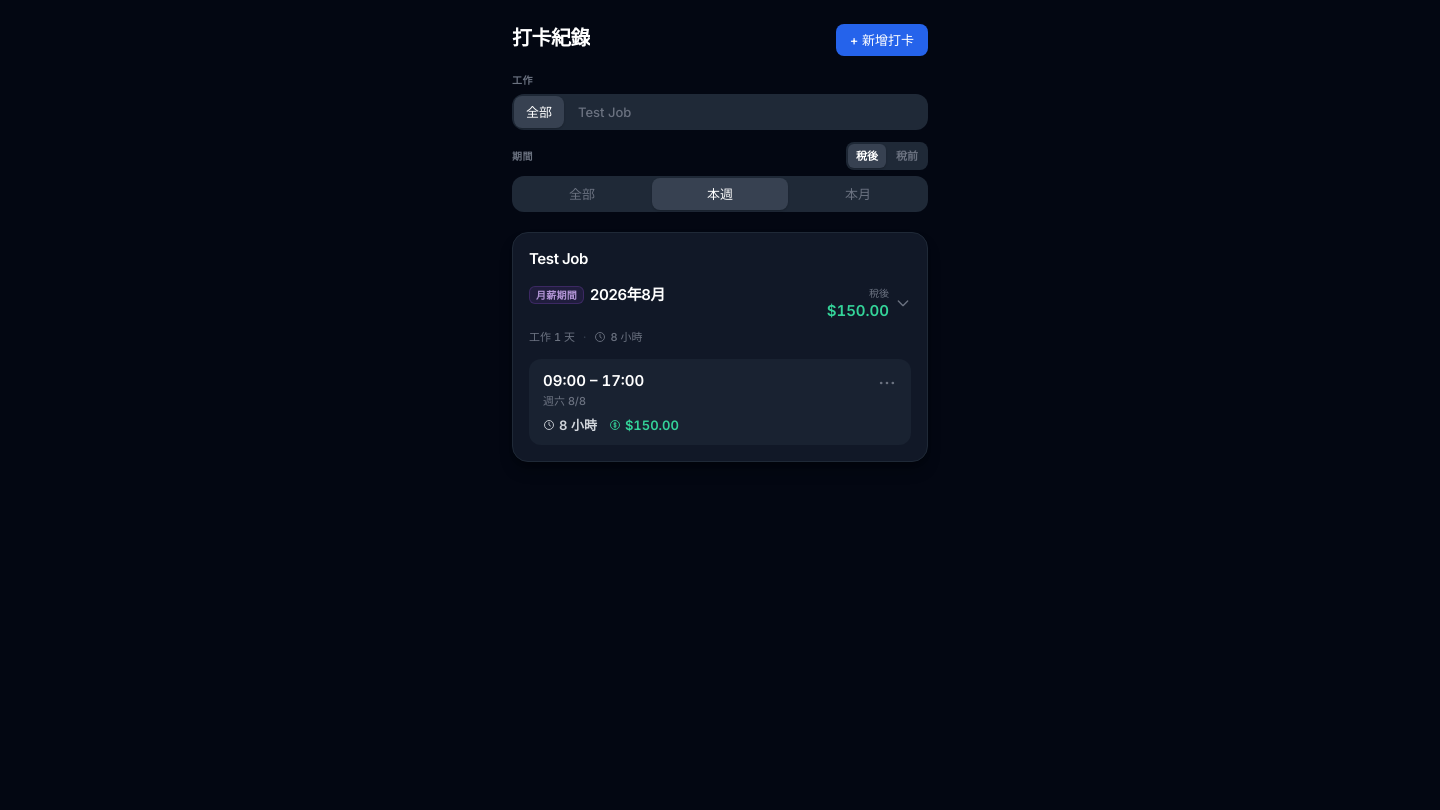
Scenario: RecordsPage — 刪除紀錄 › 確認對話框按取消不會送出 DELETE
Click the button named "更多操作": (887, 383) [869,365,905,401]
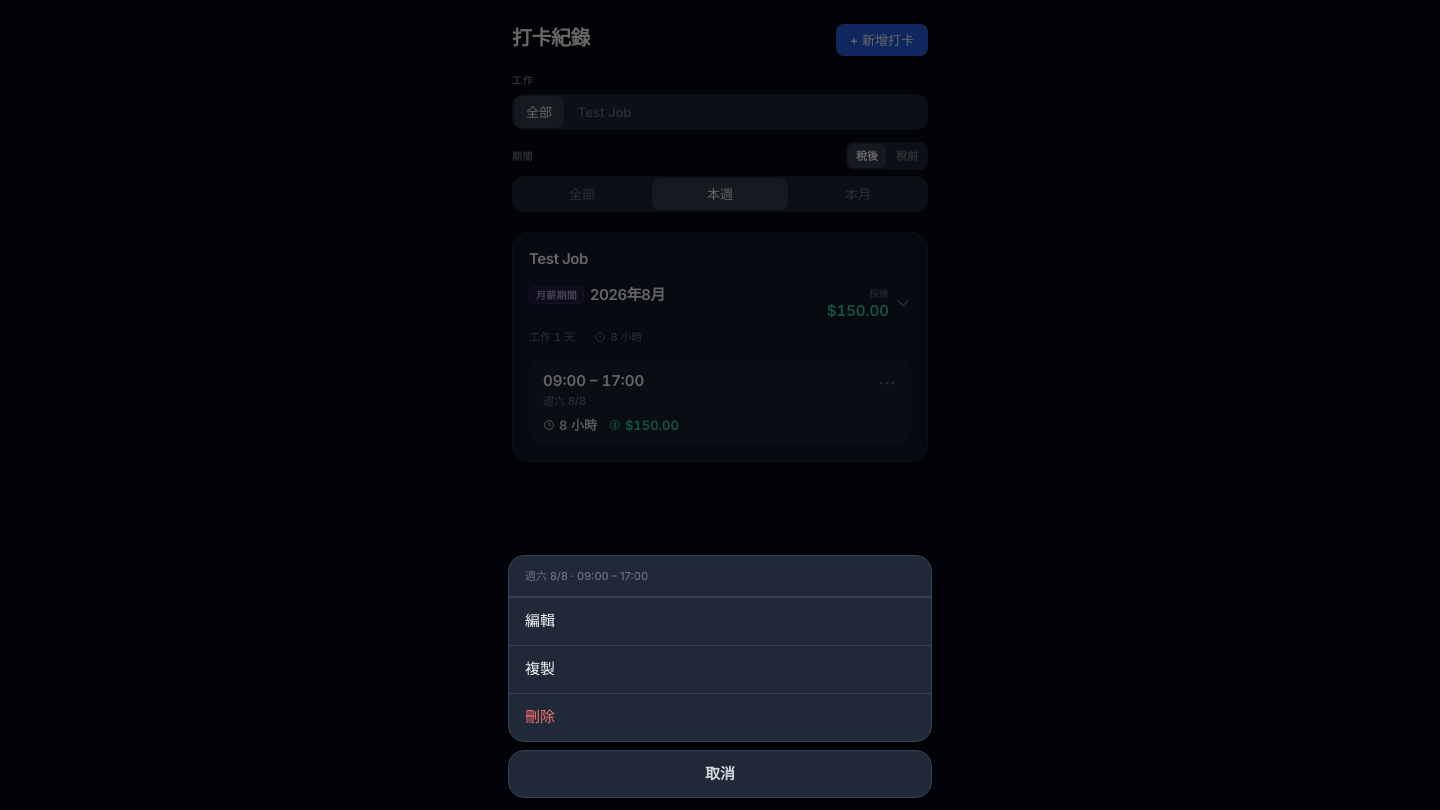
Click the button "刪除": (540, 717) [509,693,931,741]
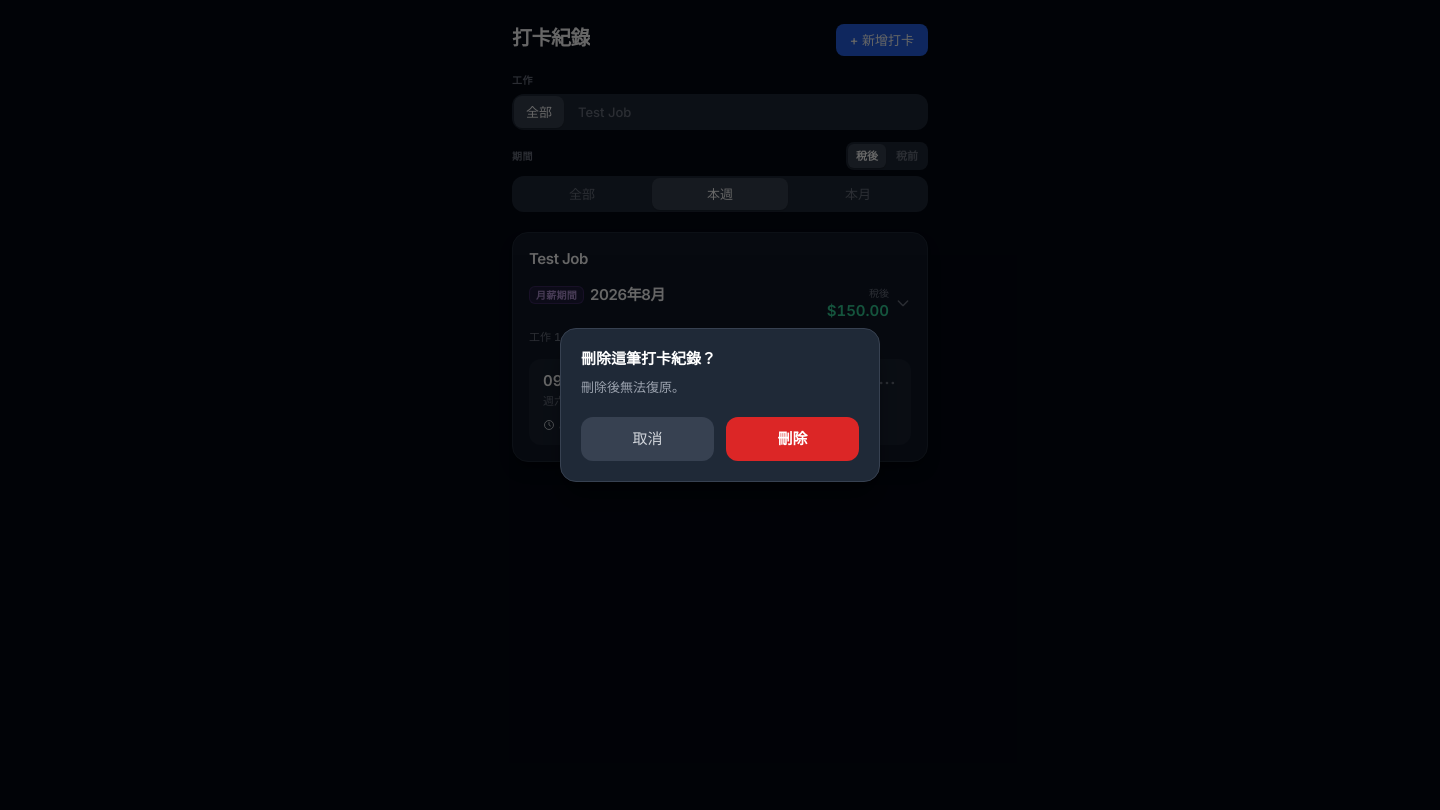
Click the button "取消": (648, 439) [581,417,714,461]
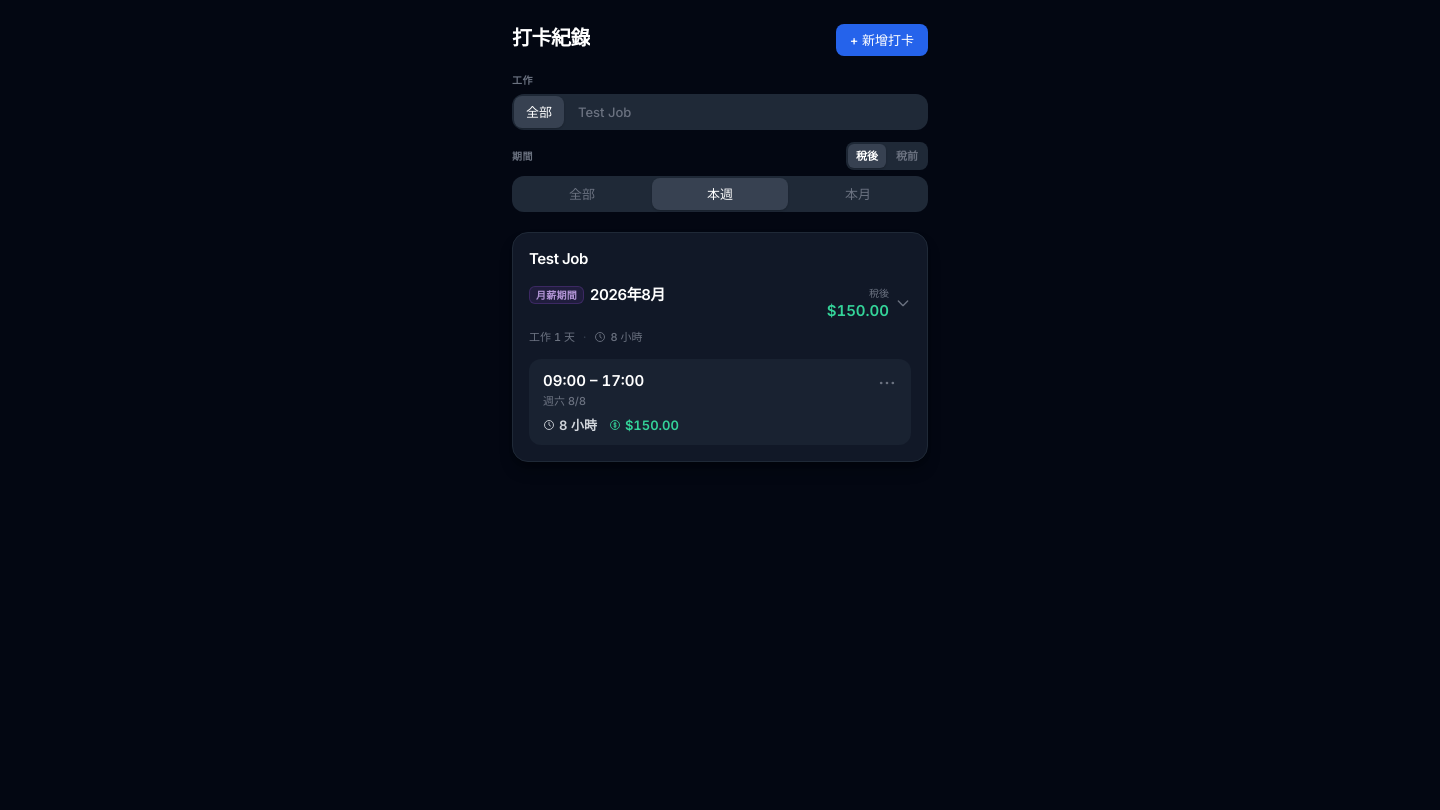
Check: the text "刪除這筆打卡紀錄？" is gone
